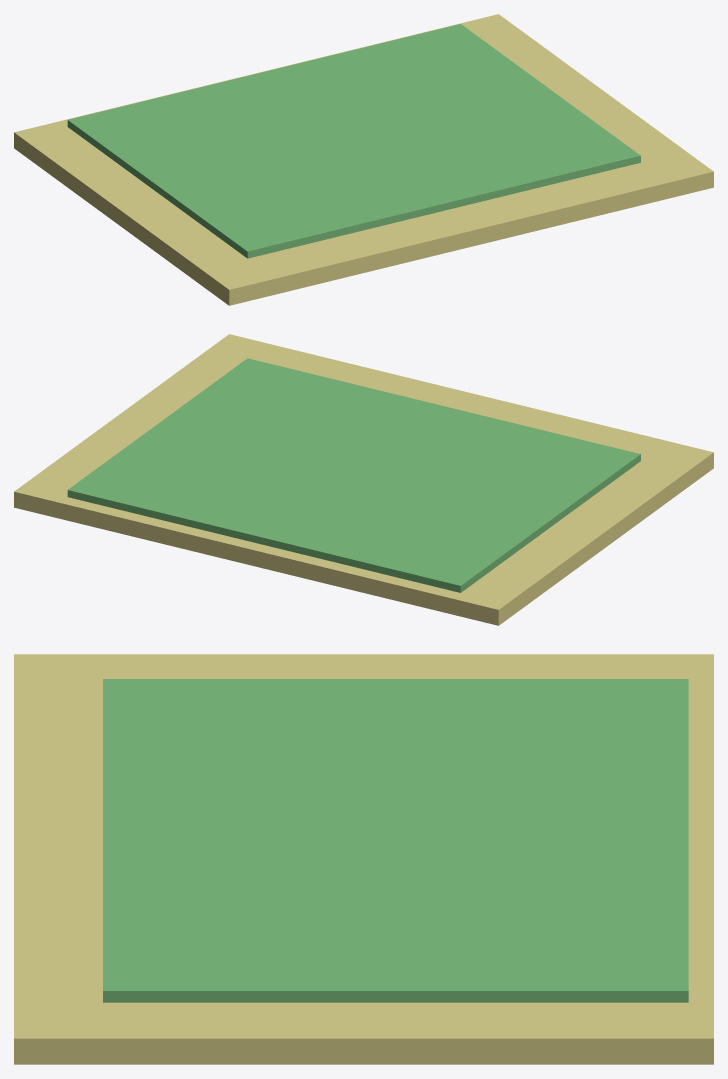
The model's file is Brilliant Bigery.glb.
The picture shows the model from 3 angles, top to bottom: view 1: azimuth 30°, elevation 25°; view 2: azimuth 150°, elevation 25°; view 3: azimuth 270°, elevation 25°; orthographic projection. The views are drawn at different scales.
Parts seen in each view (by area): view 1: Mesh_Mesh_head_geo.001_lambert2SG.001; view 2: Mesh_Mesh_head_geo.001_lambert2SG.001; view 3: Mesh_Mesh_head_geo.001_lambert2SG.001.
Boxes of the visible parts, left/top/right/bottom form: Mesh_Mesh_head_geo.001_lambert2SG.001: left=14, top=14, right=713, bottom=305; Mesh_Mesh_head_geo.001_lambert2SG.001: left=14, top=334, right=713, bottom=625; Mesh_Mesh_head_geo.001_lambert2SG.001: left=14, top=654, right=713, bottom=1064.
Bounding box in the file's own units: 286 × 13 × 220.
